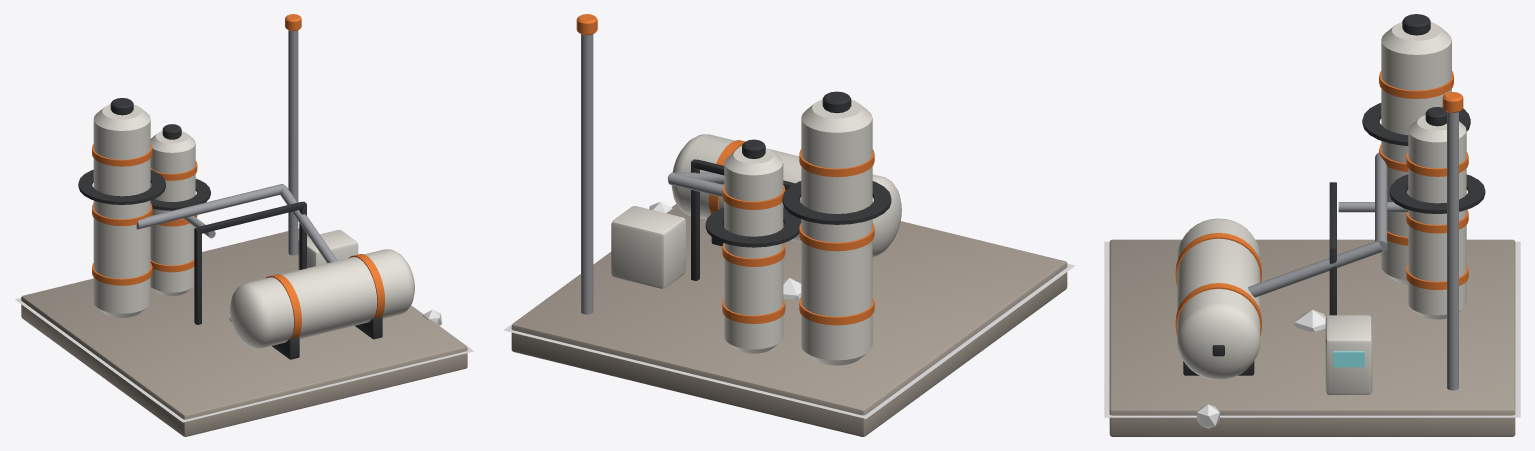
The model's file is fuel_refinery_2x2.gltf.
3 renders of one model, left to right at view 1: azimuth 30°, elevation 25°; view 2: azimuth 150°, elevation 25°; view 3: azimuth 270°, elevation 25°, orthographic. The views are drawn at different scales.
Visible parts, largest first — view 1: FuelRefinery, %P%Footprint; view 2: FuelRefinery, %P%Footprint; view 3: FuelRefinery, %P%Footprint, %P%Center, %P%AnchorOut.
Part boxes in pixels (x1,y1,x2,y2): FuelRefinery: (21, 14, 467, 436); %P%Footprint: (15, 298, 473, 422); FuelRefinery: (511, 14, 1067, 436); %P%Footprint: (503, 203, 1075, 418); FuelRefinery: (1109, 14, 1515, 436); %P%Footprint: (1104, 241, 1520, 417); %P%Center: (1294, 309, 1325, 331); %P%AnchorOut: (1197, 404, 1219, 428).
Size of the model in its own units: 4.12 by 3.4 by 4.
